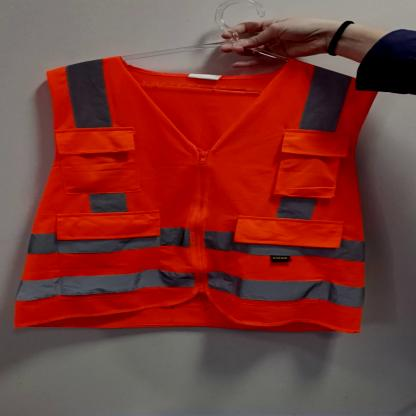colete: (7, 60, 367, 336)
